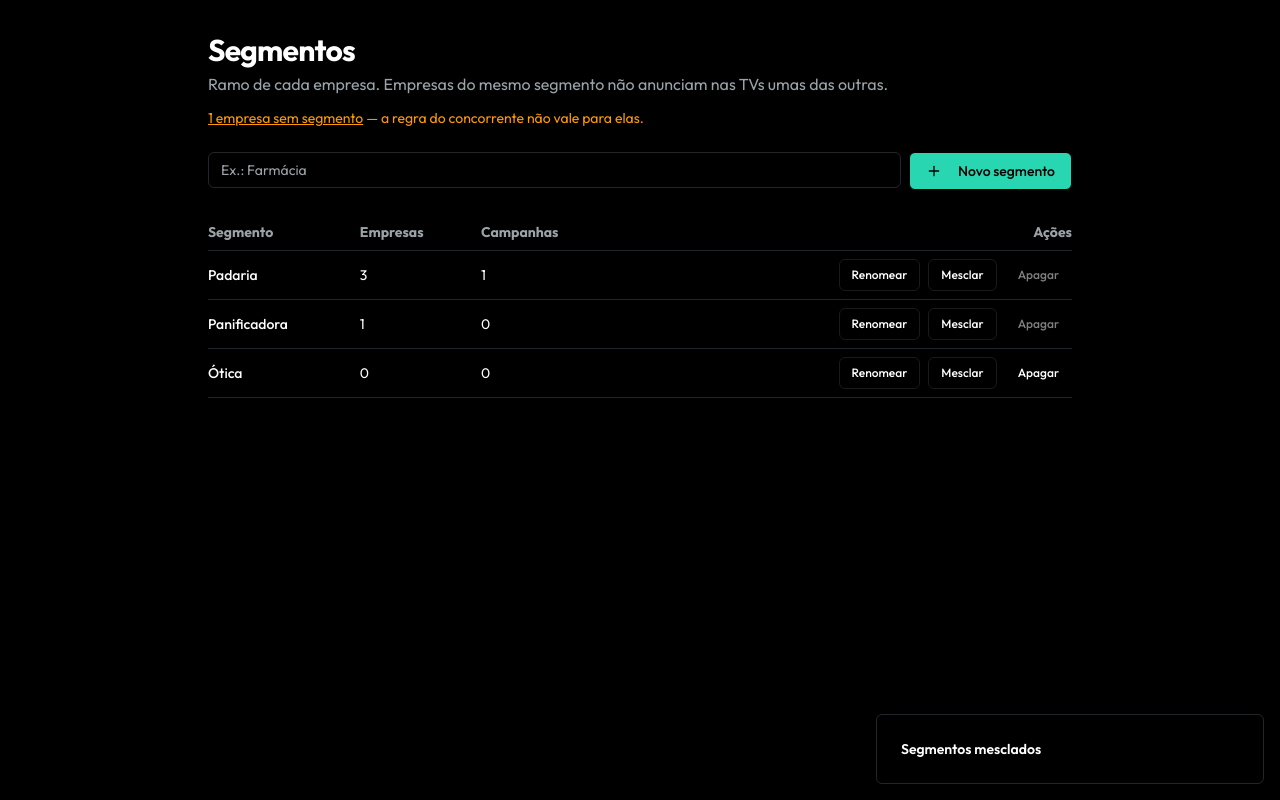
Segments › apagar com 409 mostra a mensagem e abre o mesclar
The image size is (1280, 800).
Expected: the text "Ótica" is shown, [208,348,360,398]
Click the button "Apagar" in the row of "Ótica" at (1038, 373), box [1005,357,1072,389]
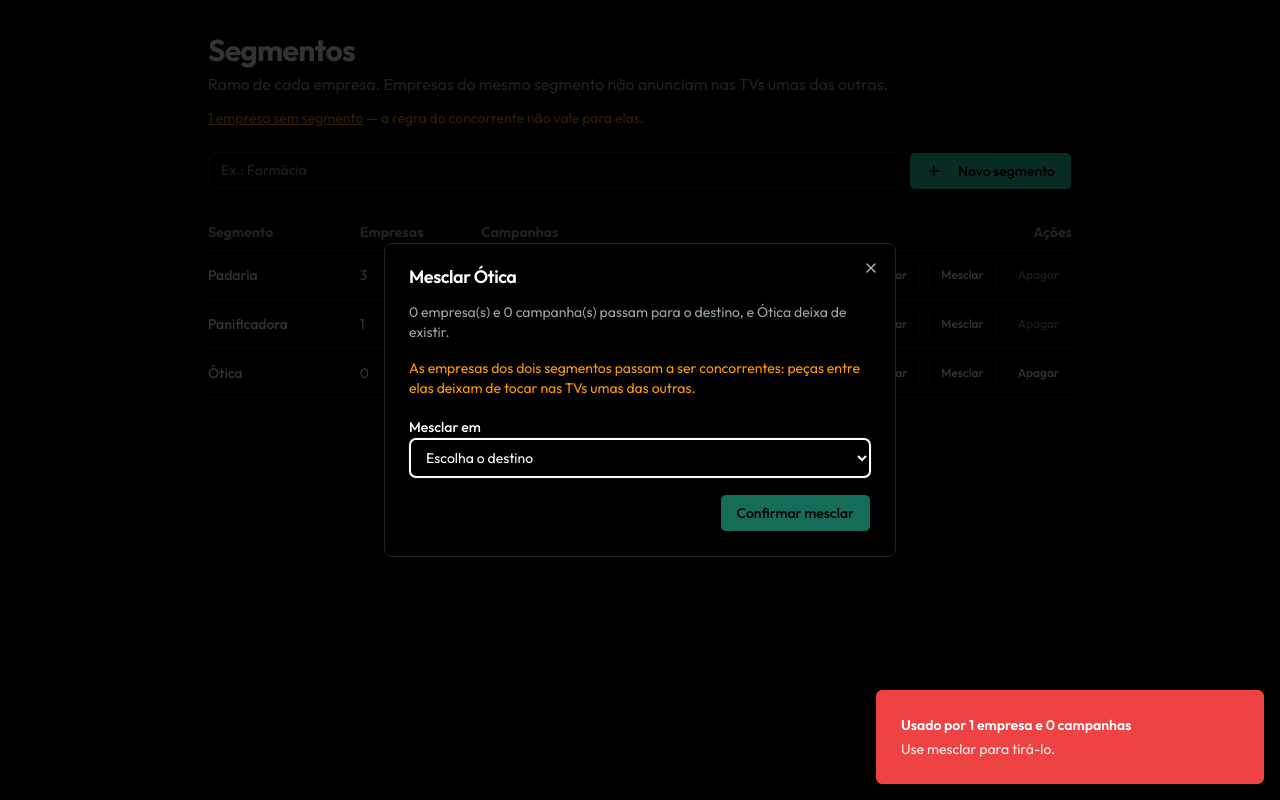
Expected: the text "Usado por 1 empresa e 0 campanhas" is shown, [901,715,1131,735]
Expected: the dropdown labelled "Mesclar em" is shown, [409,438,871,478]
